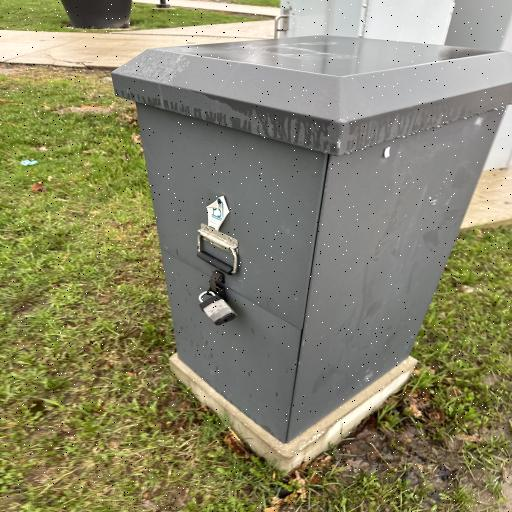Electrical Box: (113, 35, 512, 437)
